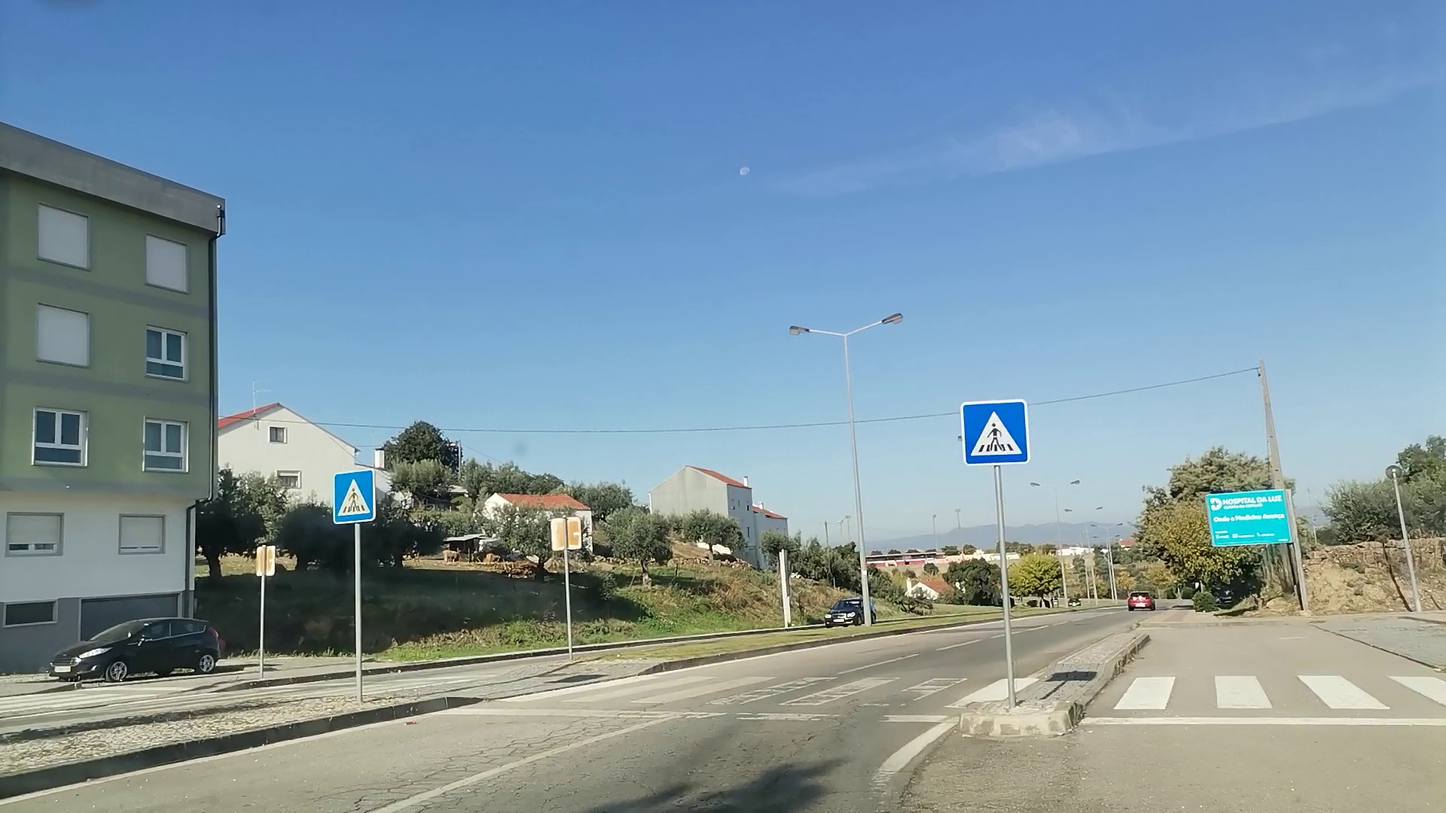Stairs: (1101, 656, 1446, 733), (594, 667, 1024, 722)
